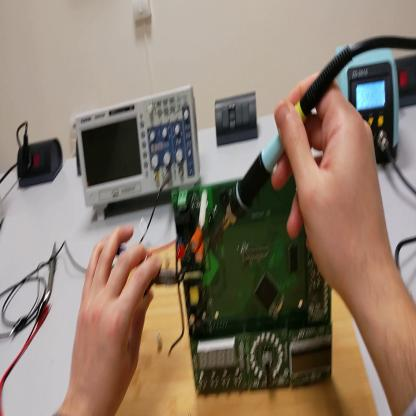hand: (272, 72, 391, 293), (72, 224, 160, 402)
low voltage board: (151, 171, 336, 401)
oscilloscope: (76, 86, 203, 222)
oscilloscope probe tip: (47, 244, 60, 300)
pliers: (116, 242, 185, 297)
socket: (18, 141, 64, 190), (395, 57, 416, 106), (77, 139, 85, 177)
welder probe tip: (208, 43, 352, 250)
welder station: (336, 43, 400, 168)
working area: (118, 233, 377, 412)
